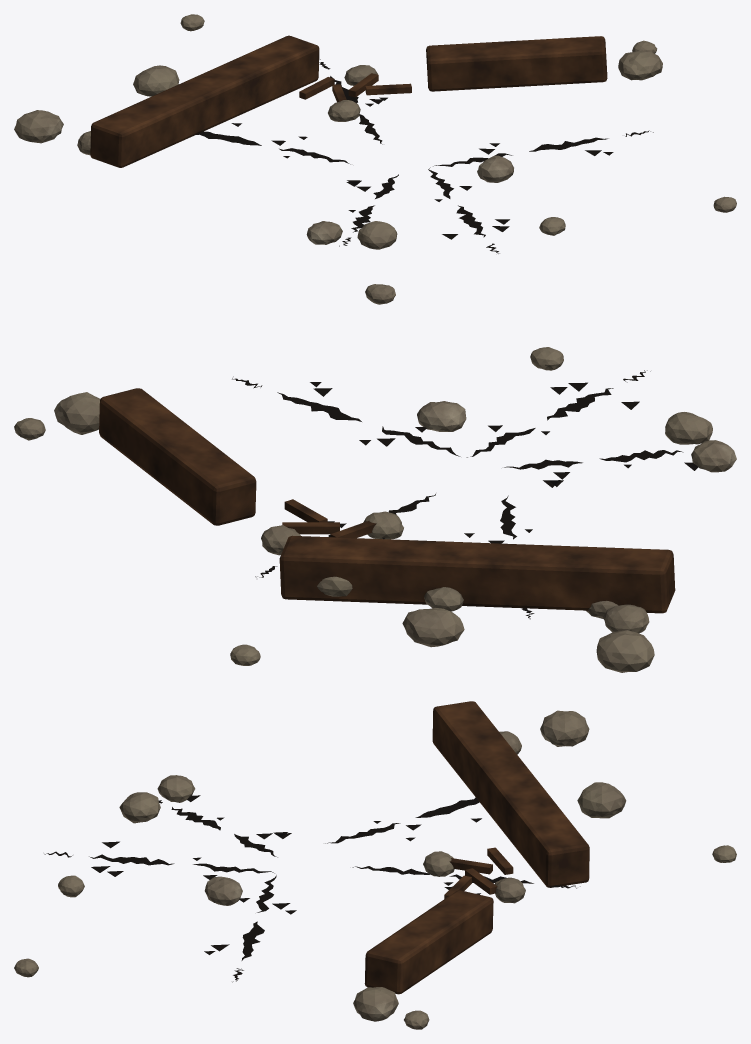
Rendered from trap_mine_heavy.glb.
3 renders of one model, top to bottom at view 1: azimuth 30°, elevation 25°; view 2: azimuth 150°, elevation 25°; view 3: azimuth 270°, elevation 25°, orthographic. The views are drawn at different scales.
Parts seen in each view (by area): view 1: trap_mine_heavy.003; view 2: trap_mine_heavy.003; view 3: trap_mine_heavy.003.
Part boxes in pixels (box(x1,y1,x2,y2)): trap_mine_heavy.003: box(14, 14, 736, 253); trap_mine_heavy.003: box(14, 284, 736, 672); trap_mine_heavy.003: box(14, 701, 736, 1029).
Size of the model in its own units: 2.02 by 0.1569 by 2.03.
3 materials, 3 textured.
